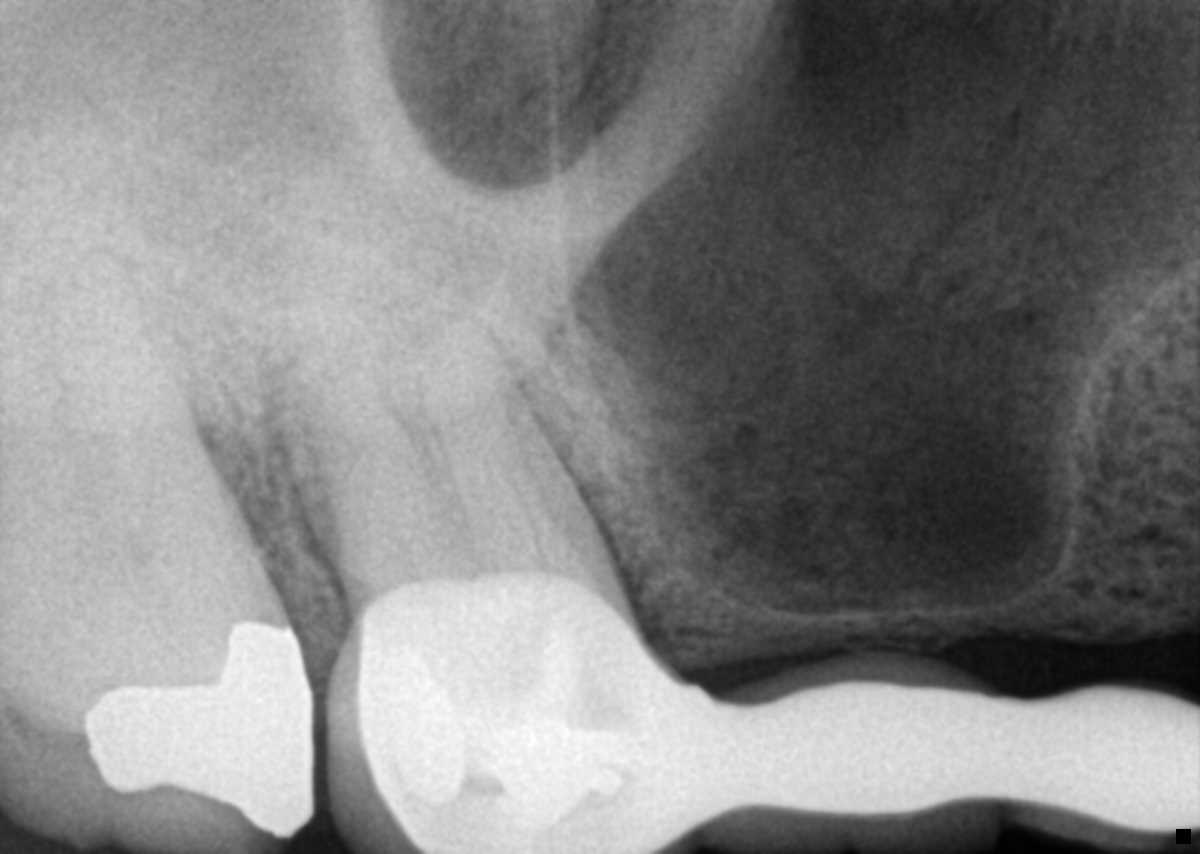Apical Lesion: (221, 362, 301, 548), (511, 350, 576, 457)
Distal Root: (265, 362, 453, 577)
Main Root: (0, 238, 271, 605)
Mesial Root: (424, 321, 606, 571)
Palatal Root: (273, 223, 532, 583)
